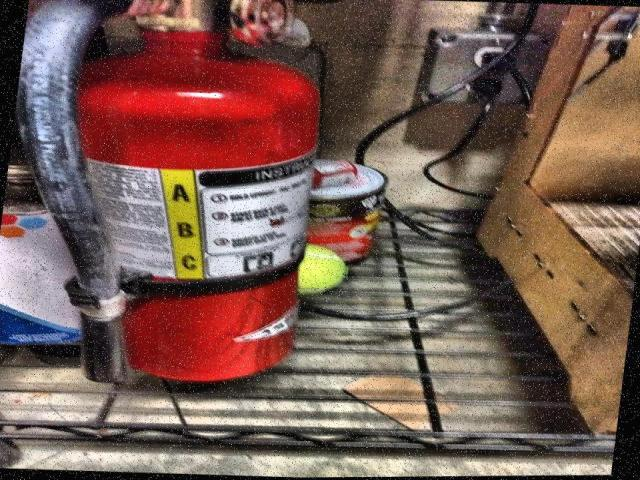tennis-ball: (298, 245, 348, 294)
